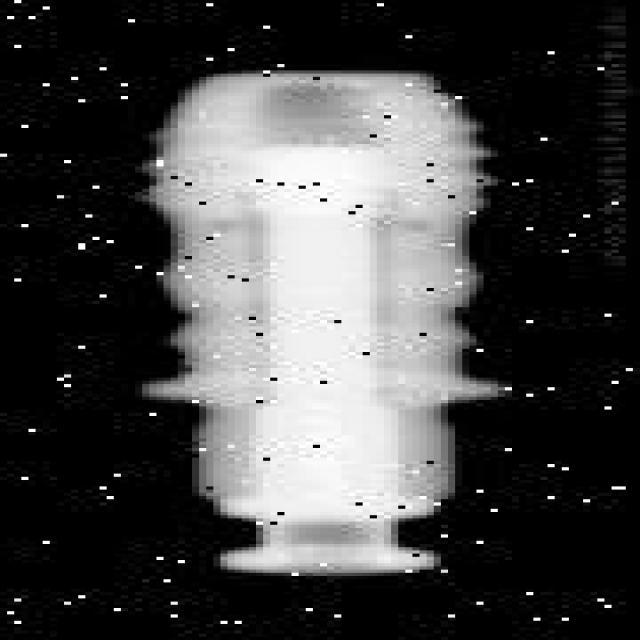Titan Implant Implant: (130, 66, 508, 580)
